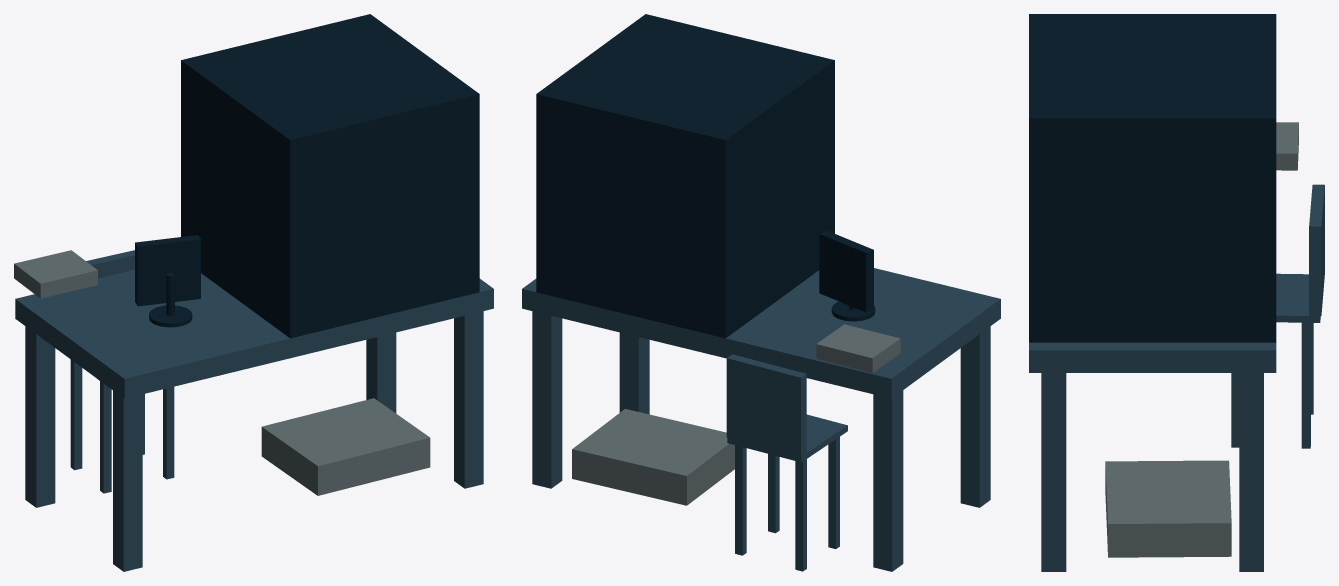
File: machine 4.glb
The picture shows the model from 3 angles, left to right: view 1: azimuth 30°, elevation 25°; view 2: azimuth 150°, elevation 25°; view 3: azimuth 270°, elevation 25°; orthographic projection. The views are drawn at different scales.
Visible parts, largest first — view 1: machine 4; view 2: machine 4; view 3: machine 4.
Boxes of the visible parts, box(x1,y1,x2,y2) form: machine 4: box(14, 14, 493, 571); machine 4: box(522, 14, 1000, 571); machine 4: box(1029, 14, 1324, 571).
Size of the model in its own units: 1.95 by 2 by 1.2.
